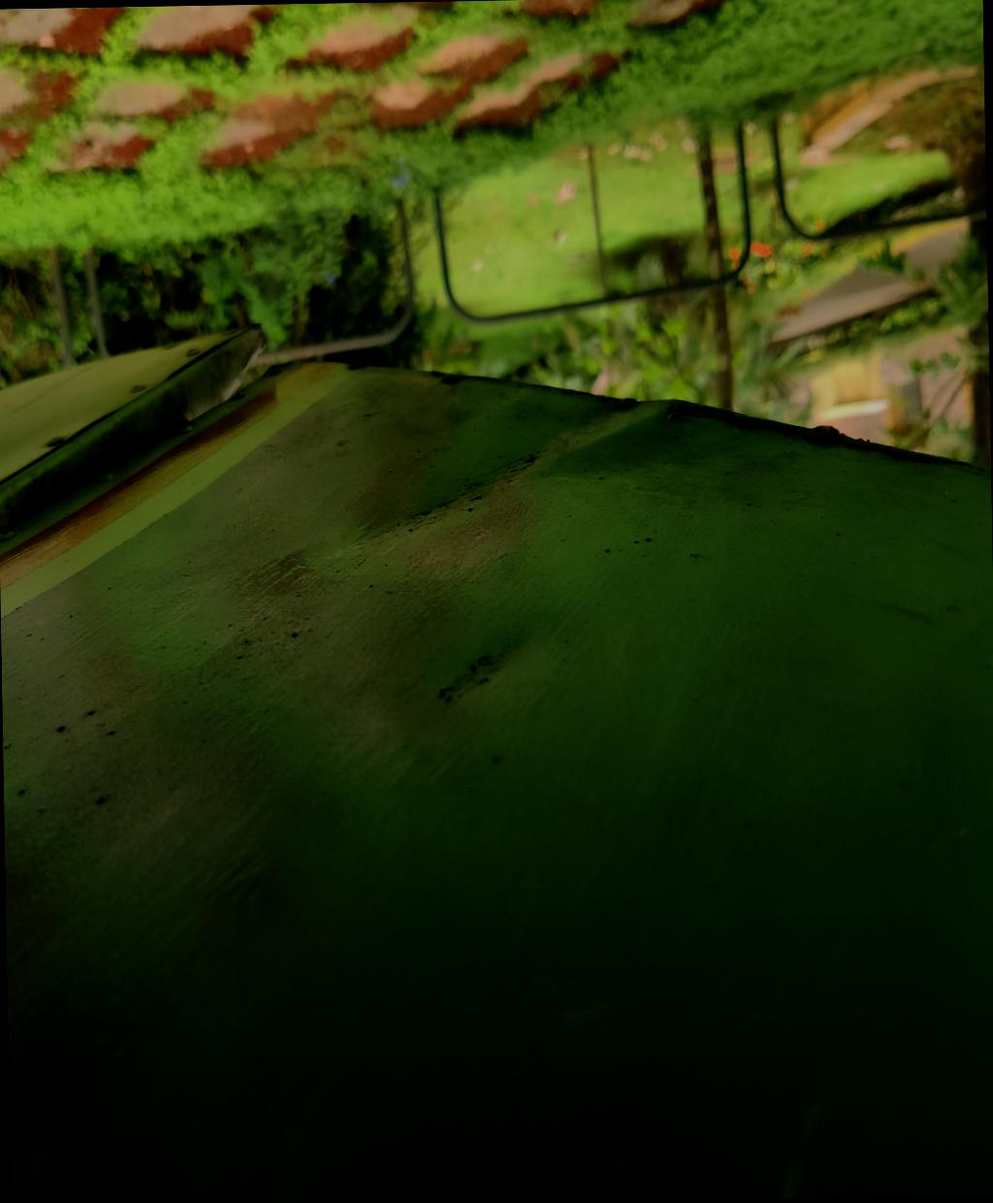dent: (313, 342, 733, 625), (398, 585, 577, 784)
